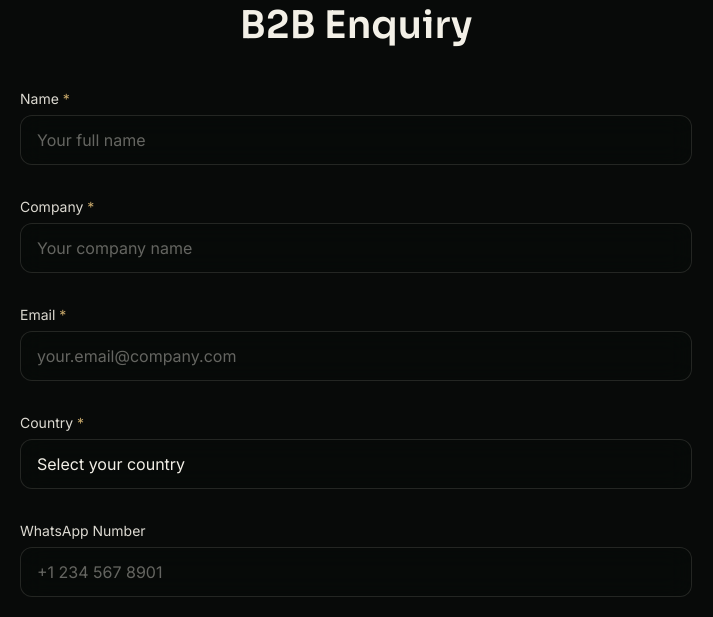
Test: EnquiryFormWrapper – Submission Flows › Successful submission (Req 4.3) › shows acknowledgment message after successful submission
The width and height of the screenshot is (713, 617).
Type "Jane Smith" into the field labelled "Name *" at [356, 140], box [20, 115, 692, 165]
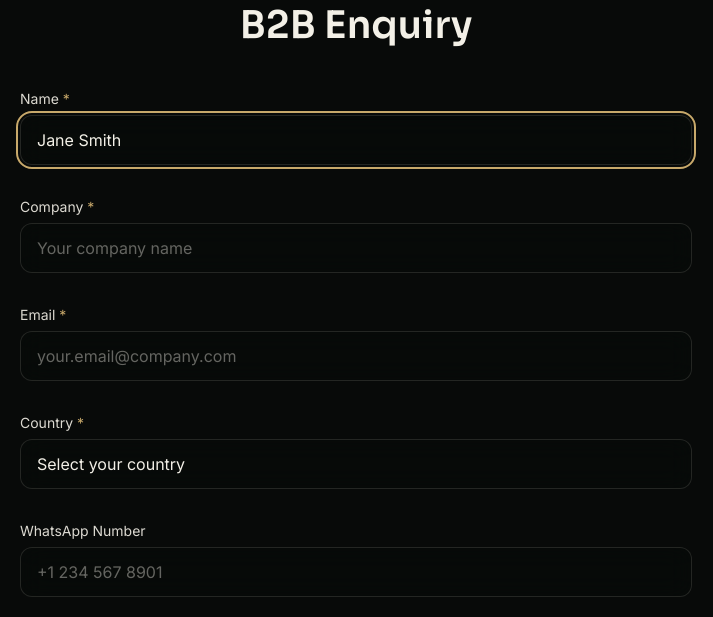
Type "GreenPack Ltd" into the field labelled "Company *" at [356, 248], box [20, 223, 692, 273]
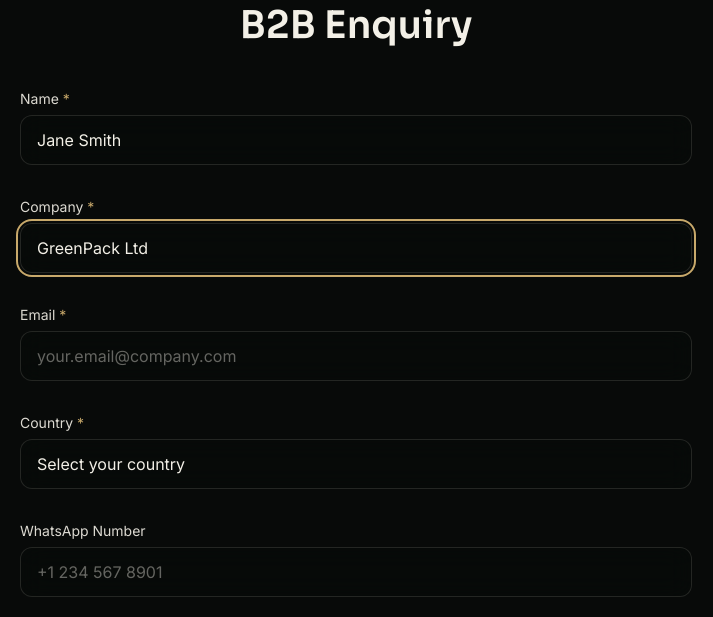
Type "jane@greenpack.com" into the field labelled "Email *" at [356, 356], box [20, 331, 692, 381]
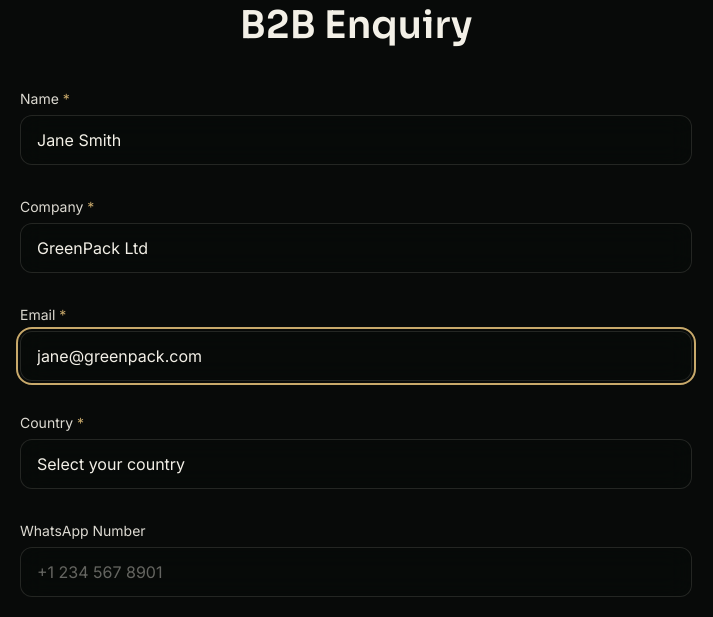
Select "United States" in the dropdown labelled "Country *" at [356, 464], box [20, 439, 692, 489]
(page scrolled)
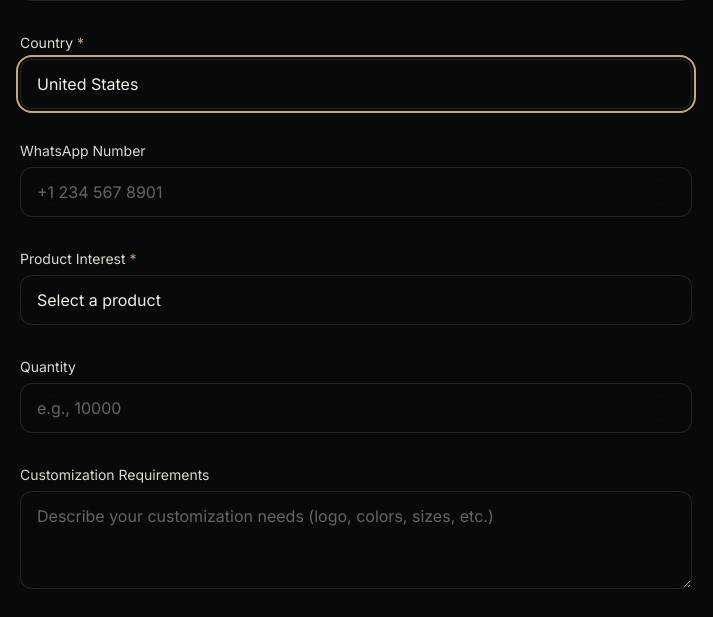
Select "Paper Cups" in the dropdown labelled "Product Interest *" at [356, 300], box [20, 275, 692, 325]
(page scrolled)
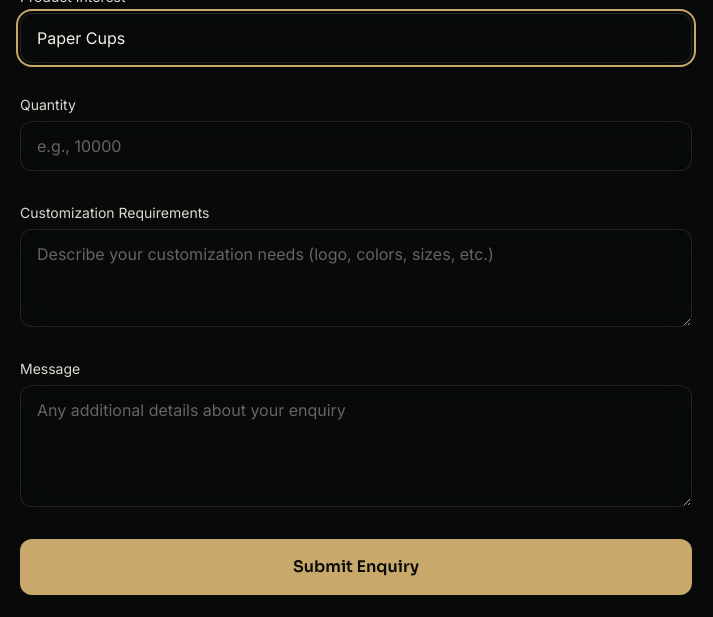
Click the button "Submit Enquiry" at [356, 567], box [20, 539, 692, 595]
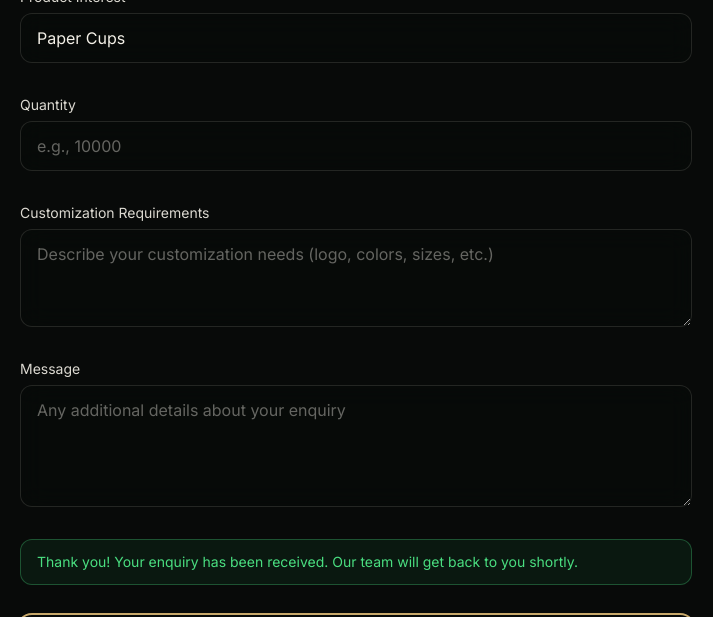
Now the text "enquiry has been received" is shown, box [37, 553, 578, 570]
